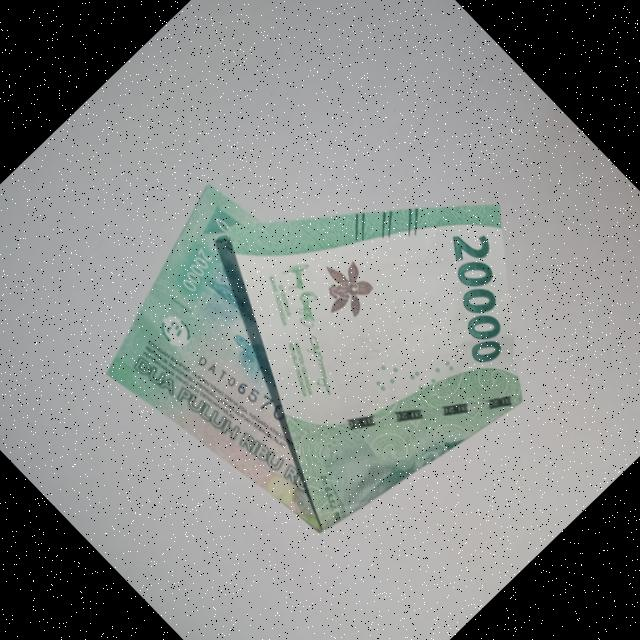20K: (53, 37, 619, 604)
